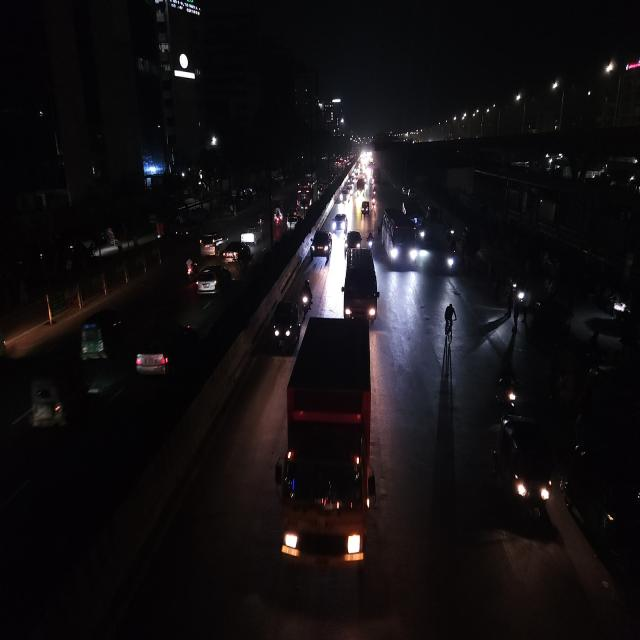bicycle: (439, 302, 462, 346)
bus: (418, 202, 458, 277), (380, 206, 419, 273), (296, 176, 314, 212), (356, 180, 367, 197)
car: (133, 314, 196, 384), (341, 245, 381, 325), (194, 264, 233, 298), (310, 227, 333, 264), (221, 240, 251, 266), (240, 215, 264, 246), (198, 230, 226, 256), (344, 228, 362, 255), (332, 210, 348, 234), (286, 211, 299, 231), (340, 188, 350, 205)
cng: (489, 410, 556, 529), (27, 356, 71, 438), (78, 309, 124, 363), (269, 295, 300, 356), (359, 198, 372, 223), (275, 210, 281, 229)
motorcycle: (495, 362, 522, 412), (299, 277, 314, 317), (182, 254, 198, 279), (366, 228, 375, 252)
truck: (278, 312, 378, 582)
